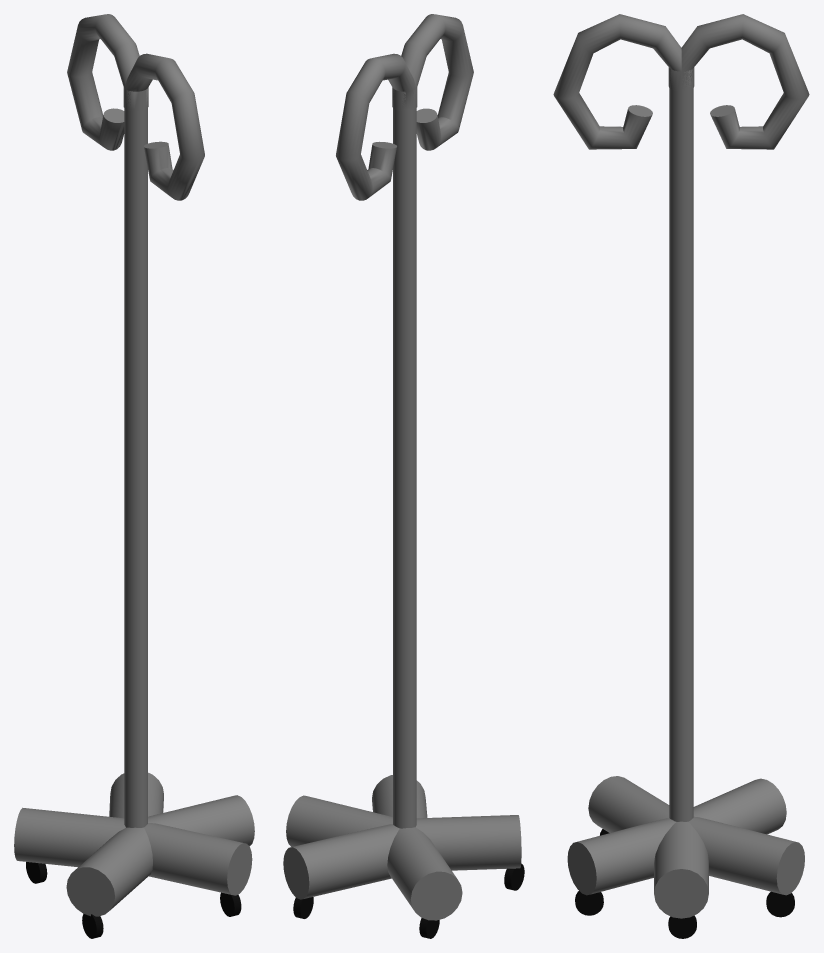
File: Pole_Thing_Model.fbx
3 views of the same model, side by side, from view 1: azimuth 30°, elevation 25°; view 2: azimuth 150°, elevation 25°; view 3: azimuth 270°, elevation 25° (orthographic).
Visible parts, largest first — view 1: Pole_Thingy; view 2: Pole_Thingy; view 3: Pole_Thingy.
Part boxes in pixels (box(x1,y1,x2,y2)): Pole_Thingy: box(14, 14, 254, 938); Pole_Thingy: box(283, 14, 524, 938); Pole_Thingy: box(553, 14, 809, 938).
Bounding box in the file's own units: 0.3456 × 1.43 × 0.3788.
1 material, 1 textured.
